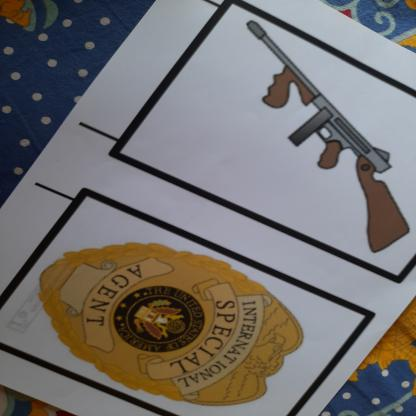Bootlegger: (235, 10, 416, 257)
G-man: (35, 235, 312, 416)
